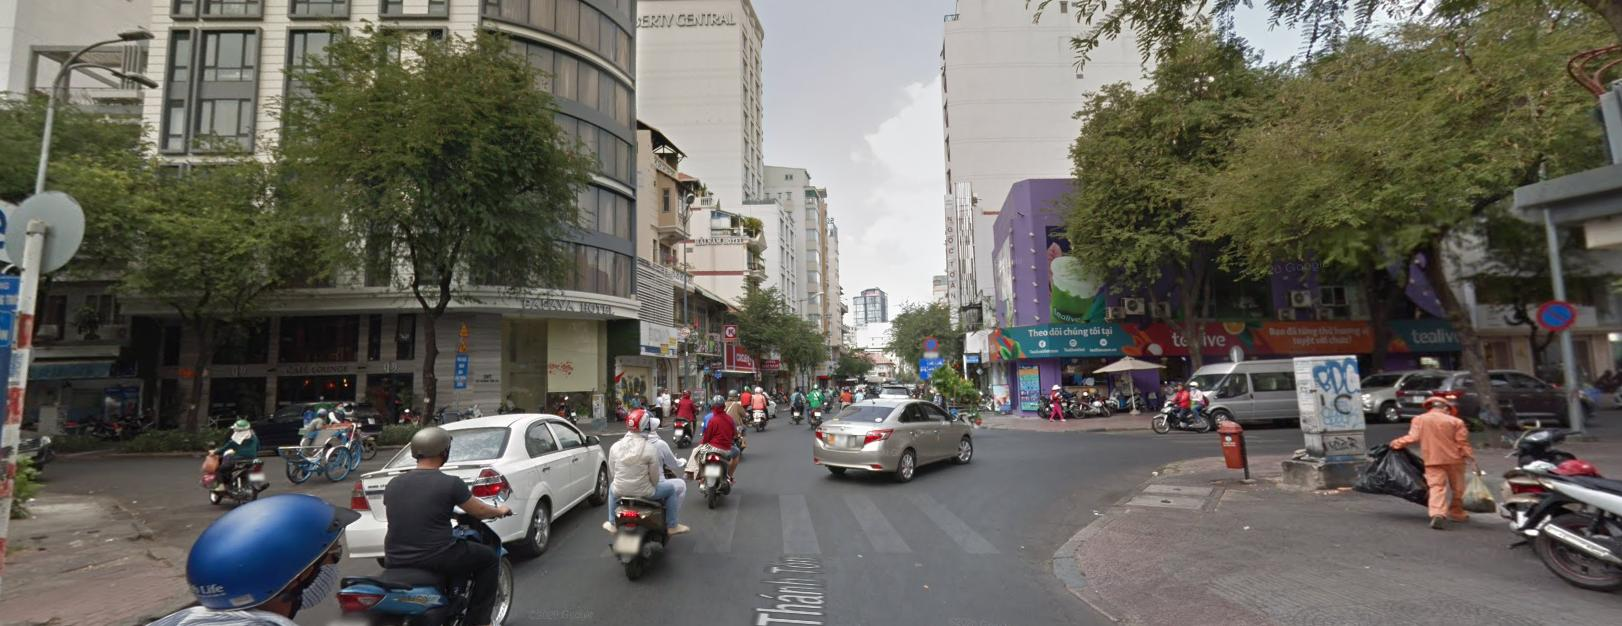Cam dung va do: (1533, 297, 1576, 330), (924, 335, 936, 349)
Nguy hiem: (457, 321, 473, 336), (457, 338, 470, 352)
